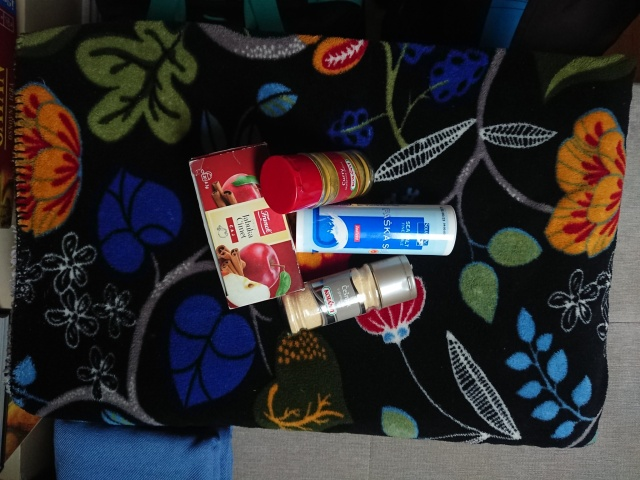Franck Apple Cinnamon Tea 60g: (185, 138, 308, 313)
Kotanyi Curry Spices Mix 70g: (256, 148, 377, 217)
Kotanyi Garlic Granules 70g: (278, 252, 419, 337)
Solana Pag Fine Sea Salt 250g: (293, 201, 459, 257)
